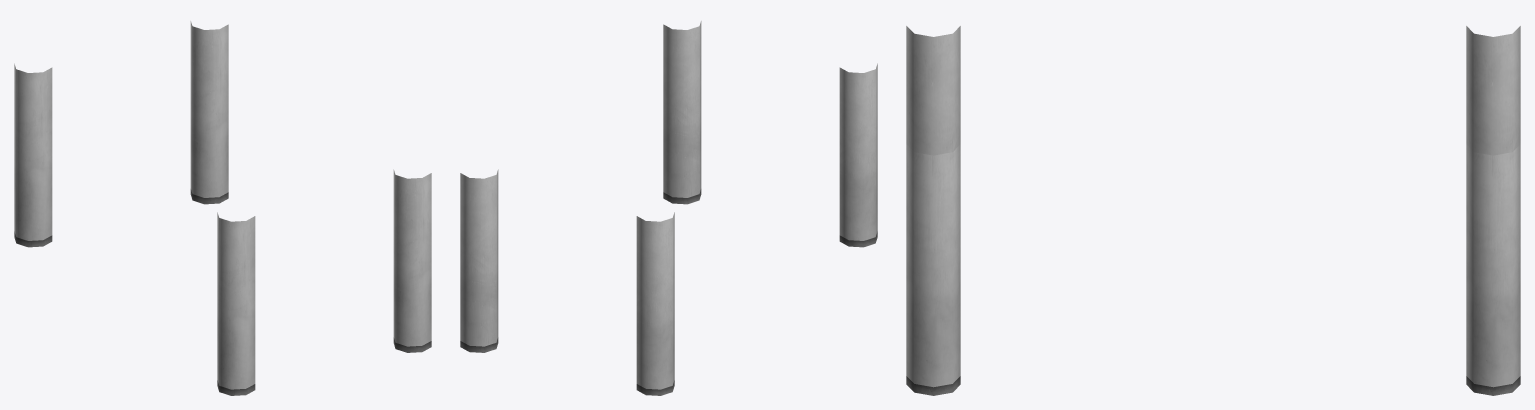
The model's file is AMB_SILINDER_CHU.glb.
3 renders of one model, left to right at view 1: azimuth 30°, elevation 25°; view 2: azimuth 150°, elevation 25°; view 3: azimuth 270°, elevation 25°, orthographic. The views are drawn at different scales.
Parts seen in each view (by area): view 1: J04, J00; view 2: J04, J00; view 3: J04, J00.
Part boxes in pixels (x1,y1,x2,y2): J04: (217, 169, 431, 395); J00: (14, 21, 228, 247); J04: (663, 21, 877, 247); J00: (460, 169, 674, 395); J04: (906, 26, 960, 395); J00: (1466, 26, 1520, 395).
Size of the model in its own units: 14.96 by 11.84 by 27.43.
Materials: 4 (4 with a texture image).
